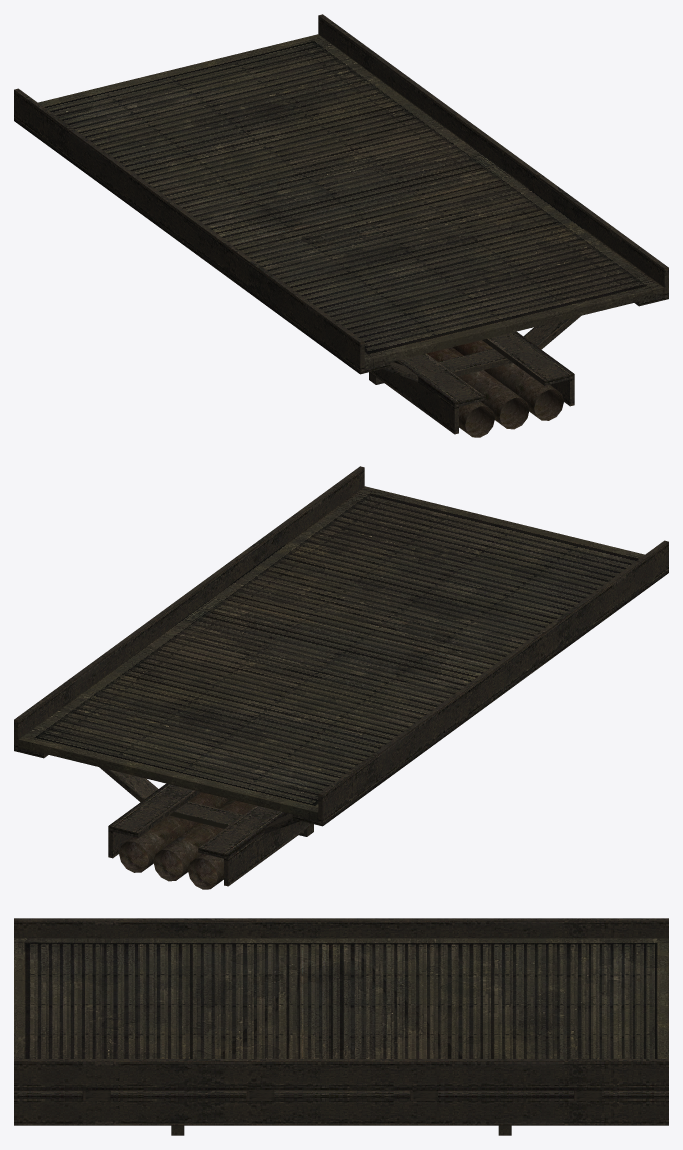
File: platform_bx_2.glb
3 renders of one model, top to bottom at view 1: azimuth 30°, elevation 25°; view 2: azimuth 150°, elevation 25°; view 3: azimuth 270°, elevation 25°, orthographic. The views are drawn at different scales.
Visible parts, largest first — view 1: platform_bx_2; view 2: platform_bx_2; view 3: platform_bx_2.
Boxes of the visible parts, bbox=[...] form: platform_bx_2: bbox=[14, 14, 668, 437]; platform_bx_2: bbox=[14, 466, 668, 889]; platform_bx_2: bbox=[14, 918, 668, 1135].
Bounding box in the file's own units: 2.06 × 0.81 × 4.
Materials: 3 (3 with a texture image).
